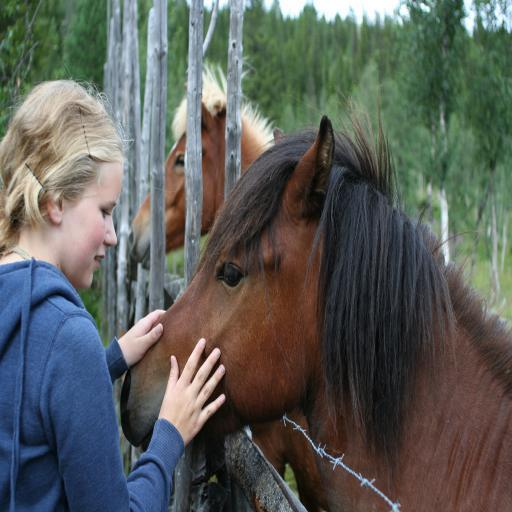horse: (118, 68, 512, 512), (126, 56, 322, 512)
